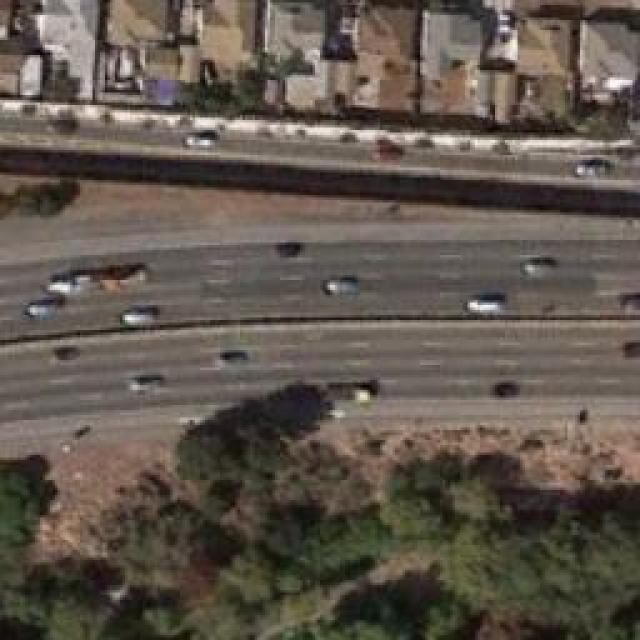City: (1, 1, 640, 148)
Forest: (0, 403, 640, 640)
Highway: (1, 85, 640, 404)
